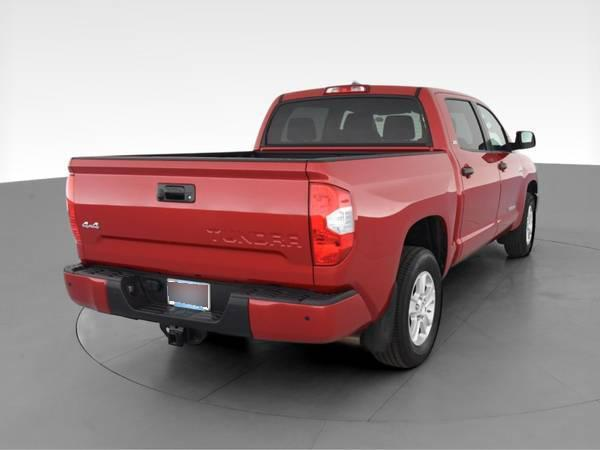Front_Right_Door: (492, 149, 527, 231)
Front_Right_Window: (476, 99, 518, 154)
Rear_Bumper: (65, 264, 372, 347)
Rear_Fender: (311, 150, 457, 312)
Rear_Right_Door: (452, 150, 501, 258)
Rear_Right_Window: (428, 90, 491, 152)
Rear_Windshield: (253, 85, 444, 151)
Right_Taillight: (309, 184, 358, 270)
Tailgate: (64, 157, 318, 287)
Wheel: (370, 247, 444, 369), (499, 191, 535, 257)
